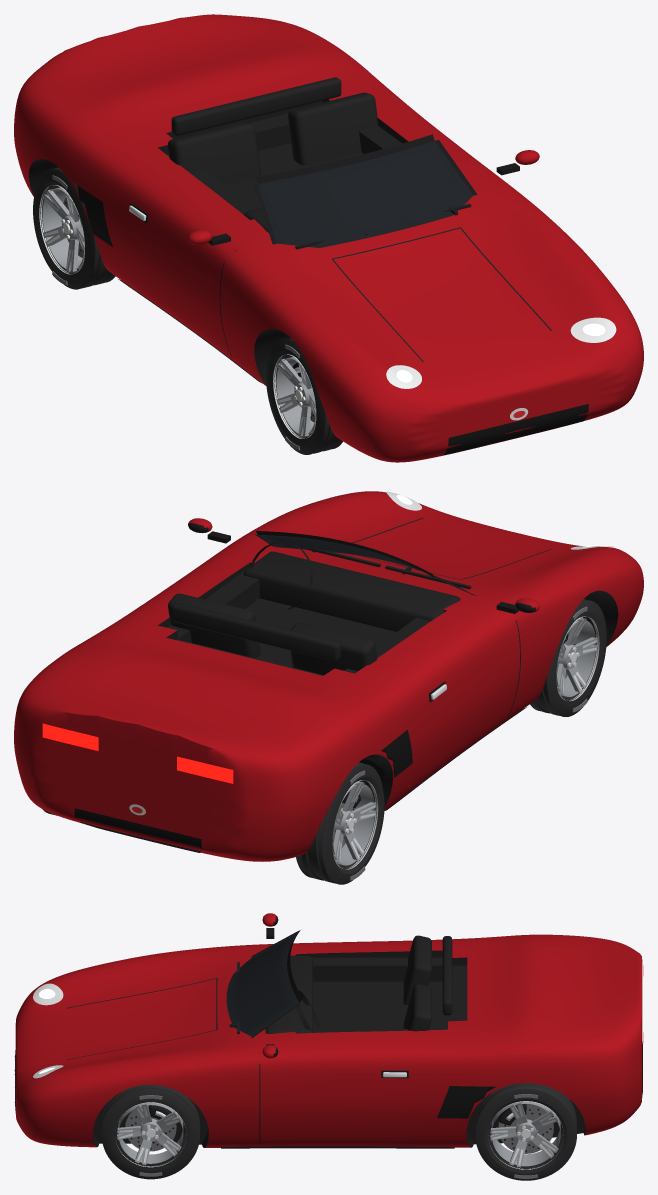
Rendered from roadster08.glb.
3 views of the same model, one above another, from view 1: azimuth 30°, elevation 25°; view 2: azimuth 150°, elevation 25°; view 3: azimuth 270°, elevation 25° (orthographic). The views are drawn at different scales.
Visible parts, largest first — view 1: Body, Wheel_RR, Wheel_FR; view 2: Body, Wheel_RR, Wheel_FR; view 3: Body, Wheel_RL, Wheel_FL.
Boxes of the visible parts, x1,y1,x2,y2 form: Body: [14, 14, 643, 462]; Wheel_RR: [33, 167, 115, 289]; Wheel_FR: [266, 336, 342, 454]; Body: [14, 491, 643, 861]; Wheel_RR: [296, 762, 384, 884]; Wheel_FR: [530, 599, 606, 716]; Body: [14, 913, 643, 1148]; Wheel_RL: [475, 1083, 576, 1180]; Wheel_FL: [101, 1084, 200, 1179].
Size of the model in its own units: 2.09 by 1.13 by 3.96.
